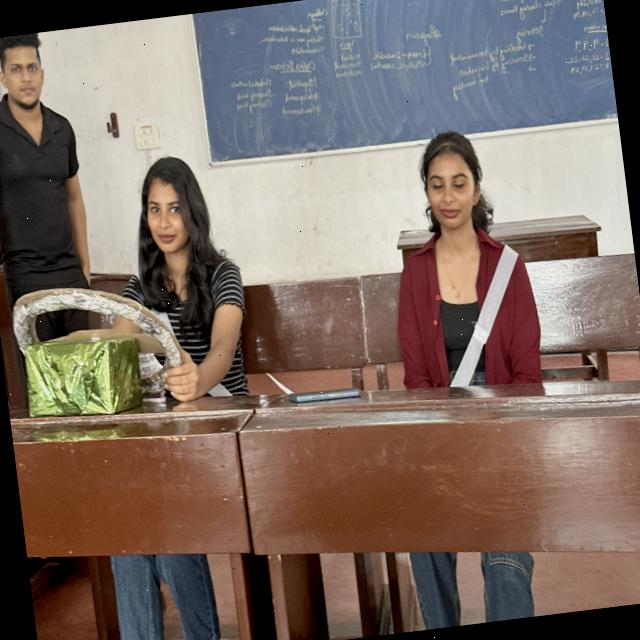seatbelt: (62, 236, 294, 441), (340, 216, 568, 413)
